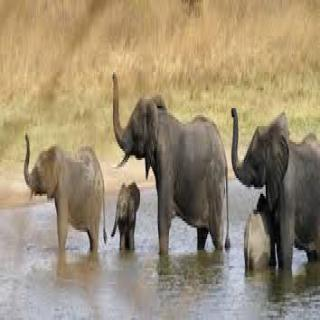Elephant: (111, 61, 232, 264), (229, 94, 320, 279), (22, 124, 110, 275), (109, 171, 143, 257)
